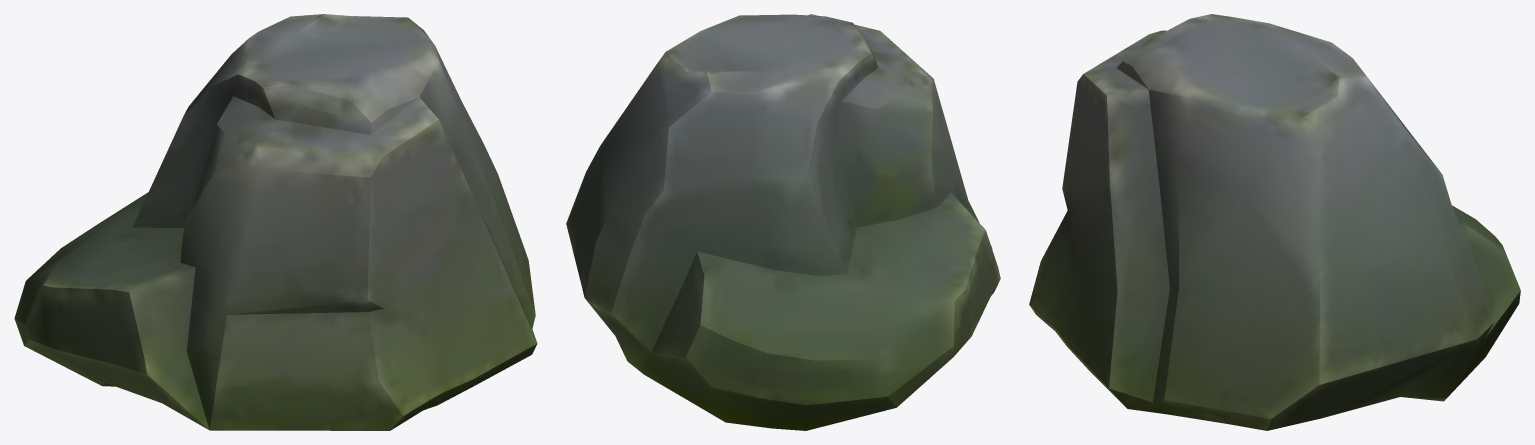
Rendered from rock-1.glb.
3 views of the same model, side by side, from view 1: azimuth 30°, elevation 25°; view 2: azimuth 150°, elevation 25°; view 3: azimuth 270°, elevation 25° (orthographic). The views are drawn at different scales.
Parts seen in each view (by area): view 1: Rock_Medium_1; view 2: Rock_Medium_1; view 3: Rock_Medium_1.
Part boxes in pixels (bbox=[...]): Rock_Medium_1: bbox=[14, 14, 537, 430]; Rock_Medium_1: bbox=[566, 14, 1000, 430]; Rock_Medium_1: bbox=[1029, 14, 1520, 430].
Bounding box in the file's own units: 3.23 × 2.26 × 2.99.
Materials: 1 (1 with a texture image).
